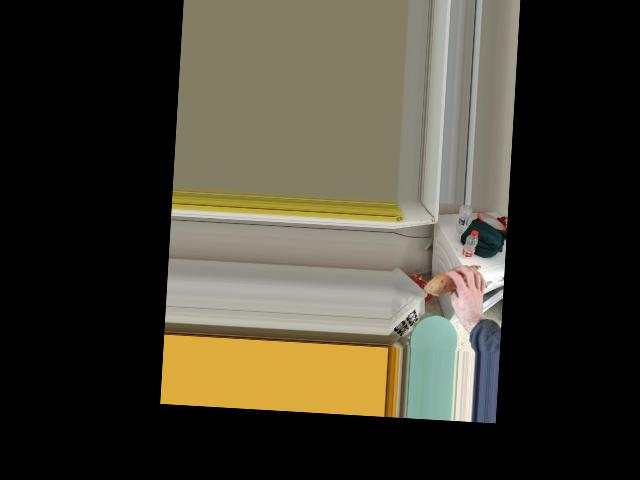sweet_potato: (425, 262, 483, 297)
